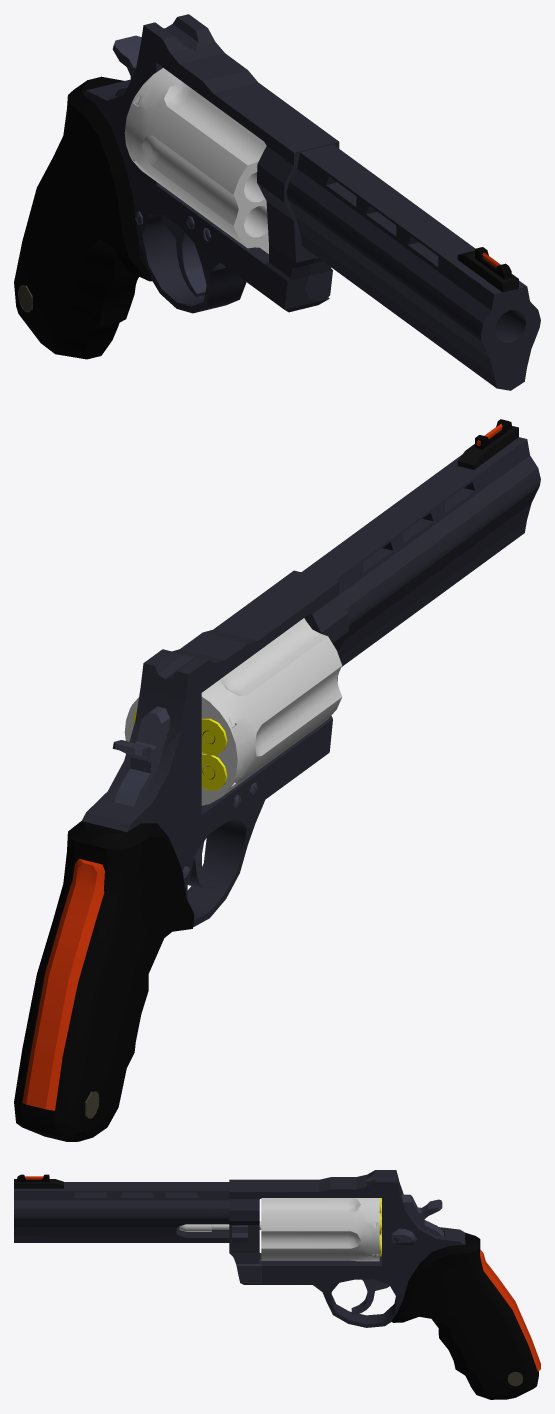
File: trj_w.fbx
3 renders of one model, top to bottom at view 1: azimuth 30°, elevation 25°; view 2: azimuth 150°, elevation 25°; view 3: azimuth 270°, elevation 25°, orthographic. The views are drawn at different scales.
Parts seen in each view (by area): view 1: polySurface30, polySurface29; view 2: polySurface30, polySurface29; view 3: polySurface30, polySurface29.
Part boxes in pixels (x1,y1,x2,y2): polySurface30: [14, 14, 540, 390]; polySurface29: [124, 68, 268, 253]; polySurface30: [14, 419, 540, 1141]; polySurface29: [124, 618, 342, 805]; polySurface30: [14, 1170, 540, 1399]; polySurface29: [179, 1198, 381, 1261].
Size of the model in its own units: 9.84 by 32.58 by 71.65.
